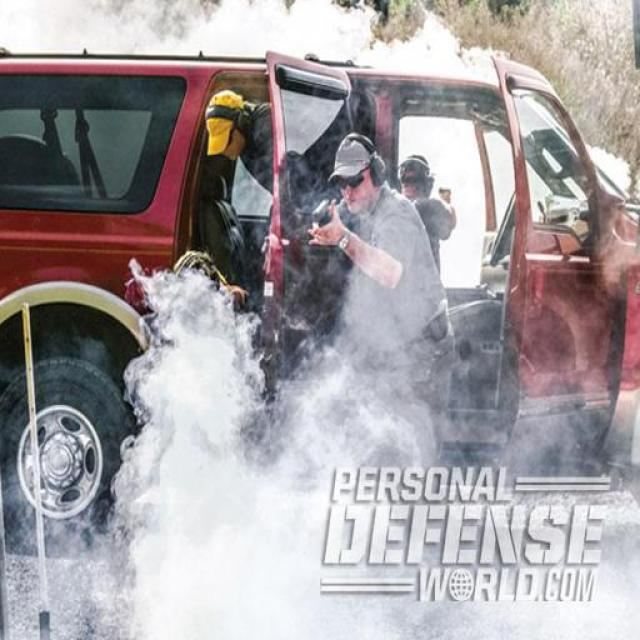pistol: (310, 194, 330, 233), (437, 185, 450, 202)
